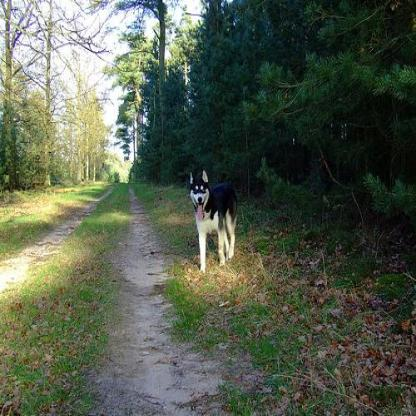Siberian_husky: (186, 166, 238, 273)
